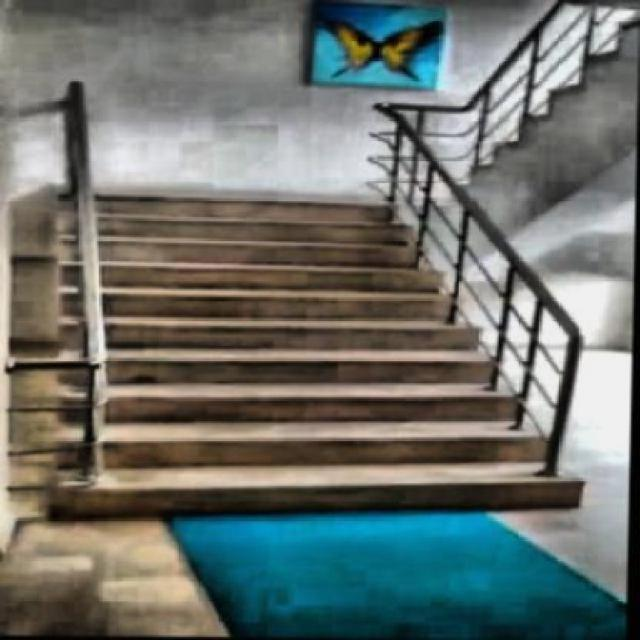stair: (24, 180, 586, 529)
